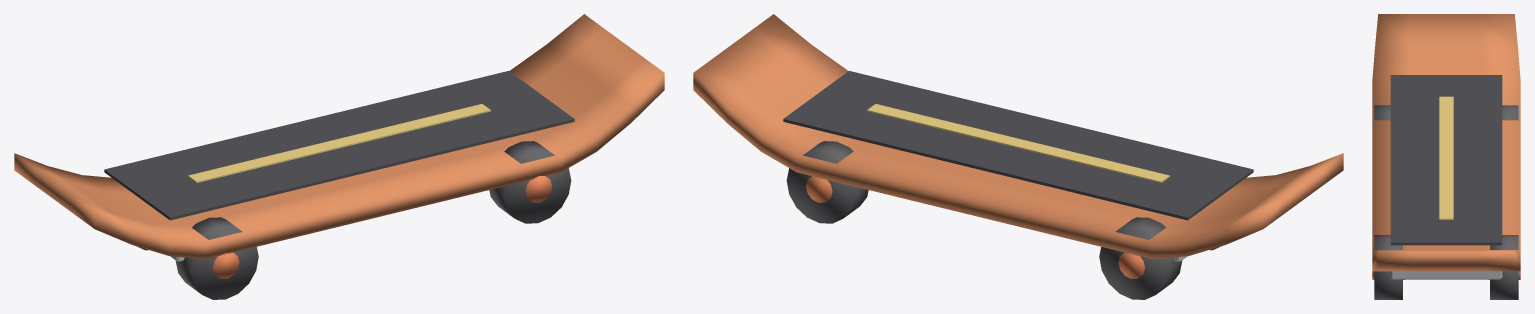
File: Skateboard.glb
3 views of the same model, side by side, from view 1: azimuth 30°, elevation 25°; view 2: azimuth 150°, elevation 25°; view 3: azimuth 270°, elevation 25° (orthographic). The views are drawn at different scales.
Parts seen in each view (by area): view 1: Deck, Grip, Wheel, Stripe, Wheel.002, Hub.002, Hub; view 2: Deck, Grip, Wheel.001, Stripe, Wheel.003, Hub.003, Hub.001; view 3: Deck, Grip, Stripe, Wheel.002, Wheel.003, Truck.001, Wheel, Wheel.001.
Part boxes in pixels (x1=…): Deck: x1=14, y1=14, x2=664, y2=259; Grip: x1=104, y1=71, x2=574, y2=220; Wheel: x1=175, y1=217, x2=258, y2=299; Stripe: x1=188, y1=104, x2=490, y2=182; Wheel.002: x1=489, y1=141, x2=571, y2=223; Hub.002: x1=525, y1=176, x2=551, y2=202; Hub: x1=213, y1=252, x2=239, y2=278; Deck: x1=693, y1=14, x2=1343, y2=259; Grip: x1=783, y1=71, x2=1253, y2=220; Wheel.001: x1=1099, y1=217, x2=1182, y2=299; Stripe: x1=867, y1=104, x2=1169, y2=182; Wheel.003: x1=786, y1=141, x2=868, y2=223; Hub.003: x1=806, y1=176, x2=832, y2=202; Hub.001: x1=1118, y1=252, x2=1144, y2=278; Deck: x1=1372, y1=14, x2=1520, y2=271; Grip: x1=1390, y1=75, x2=1502, y2=245; Stripe: x1=1439, y1=96, x2=1453, y2=219; Wheel.002: x1=1374, y1=235, x2=1402, y2=299; Wheel.003: x1=1490, y1=235, x2=1518, y2=299; Truck.001: x1=1390, y1=271, x2=1502, y2=279; Wheel: x1=1374, y1=105, x2=1390, y2=120; Wheel.001: x1=1502, y1=105, x2=1518, y2=120.
Bounding box in the file's own units: 3.1 × 0.61 × 0.82.
